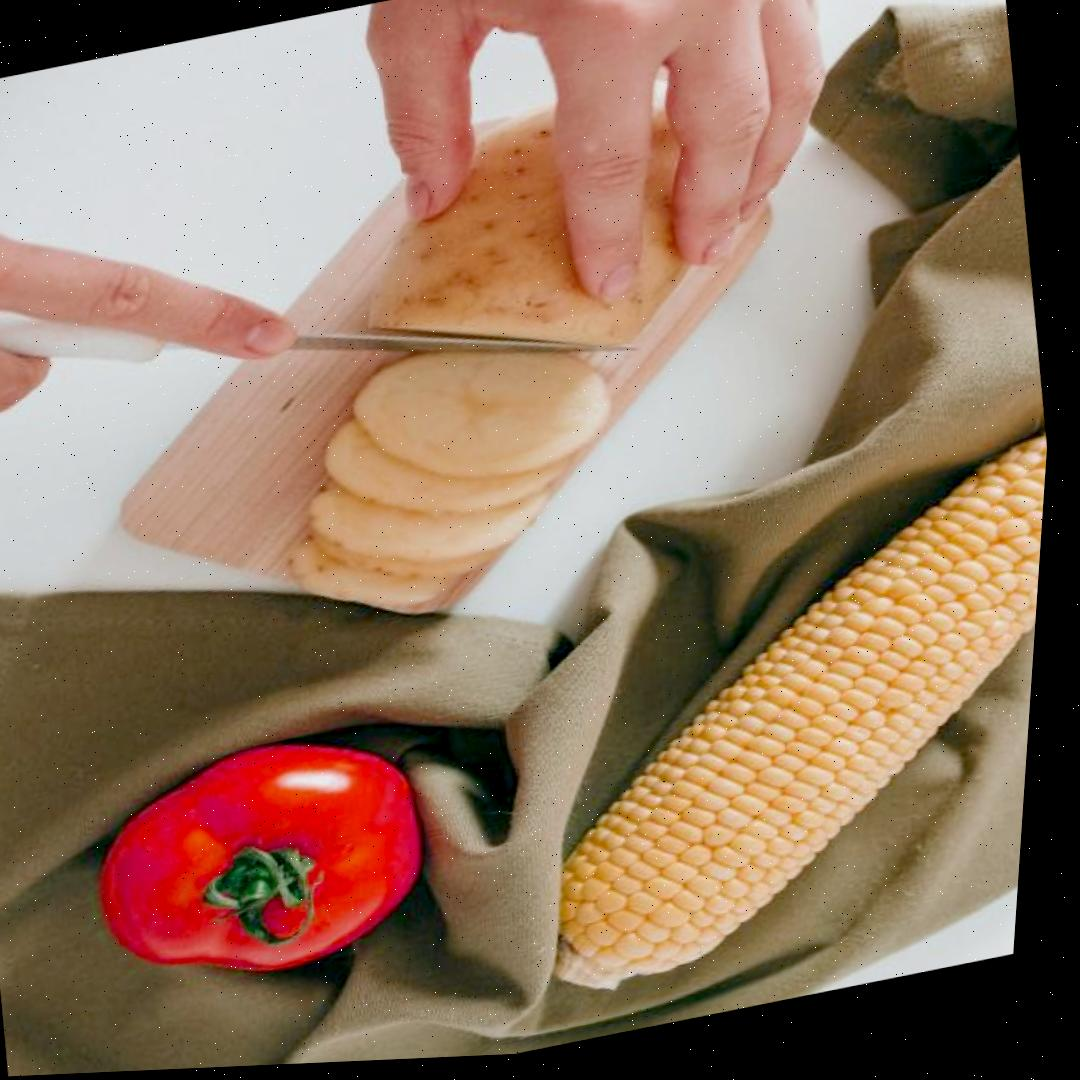matang: (71, 716, 444, 1006)
